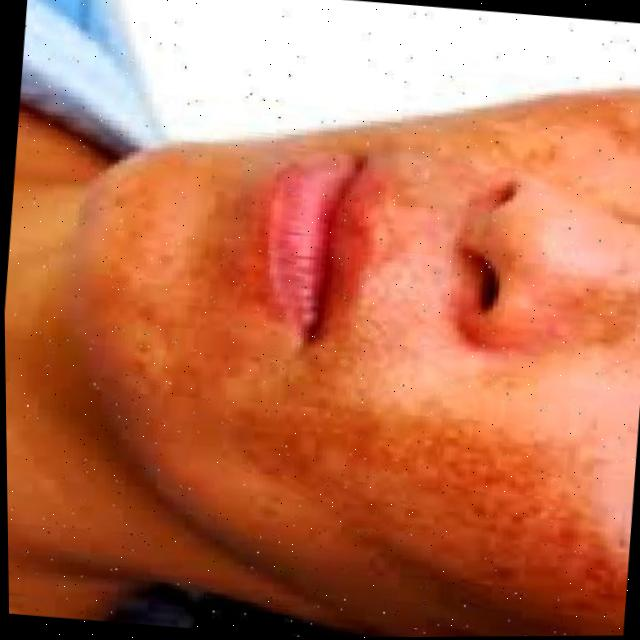Melasma: (219, 392, 640, 638), (340, 62, 640, 231), (117, 153, 277, 405)
